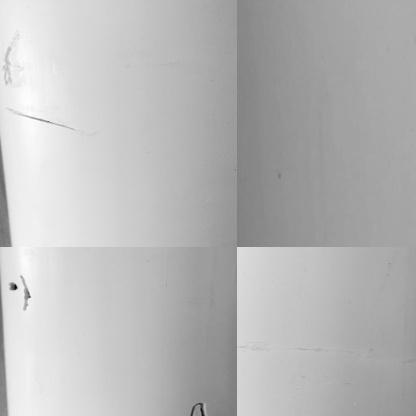fengxi: (20, 272, 35, 310), (180, 397, 214, 413)
kongdong: (10, 279, 16, 294)
sunshang: (7, 104, 86, 137), (1, 28, 26, 90)
